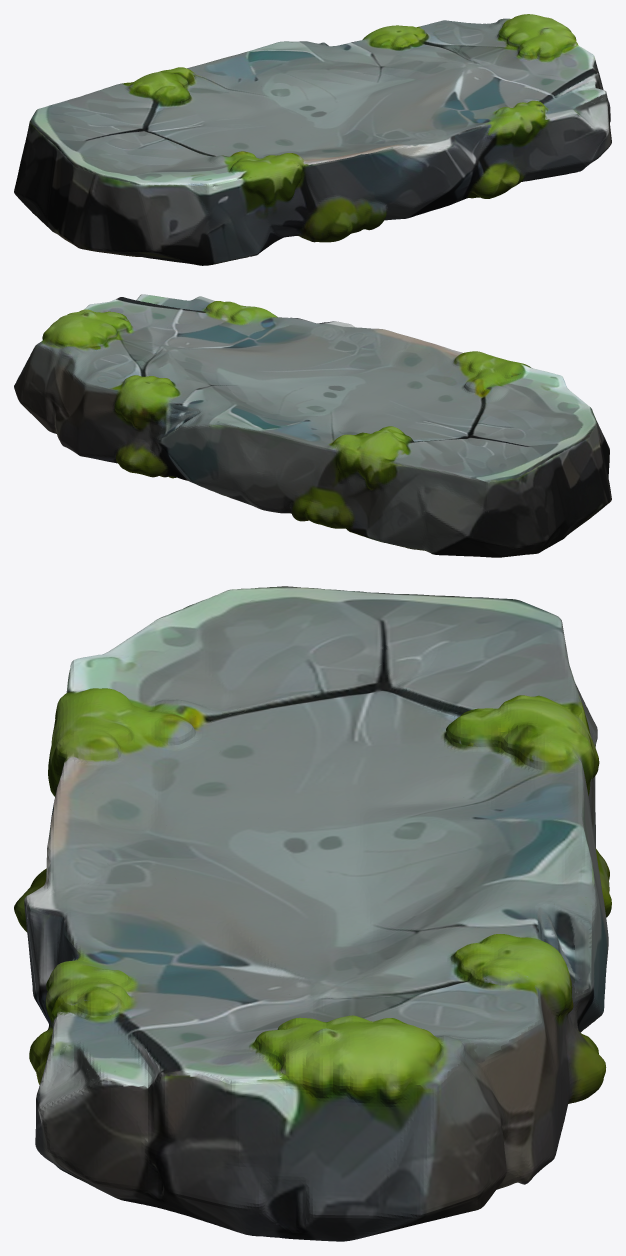
The model's file is rock_slab_paint.glb.
3 renders of one model, top to bottom at view 1: azimuth 30°, elevation 25°; view 2: azimuth 150°, elevation 25°; view 3: azimuth 270°, elevation 25°, orthographic. The views are drawn at different scales.
Parts seen in each view (by area): view 1: temp_mesh.ply; view 2: temp_mesh.ply; view 3: temp_mesh.ply.
Part boxes in pixels (left/top/right/bottom): temp_mesh.ply: left=14, top=14, right=611, bottom=265; temp_mesh.ply: left=14, top=294, right=611, bottom=557; temp_mesh.ply: left=14, top=586, right=611, bottom=1241.
Bounding box in the file's own units: 1.97 × 0.3409 × 0.9331.
Materials: 1 (1 with a texture image).
